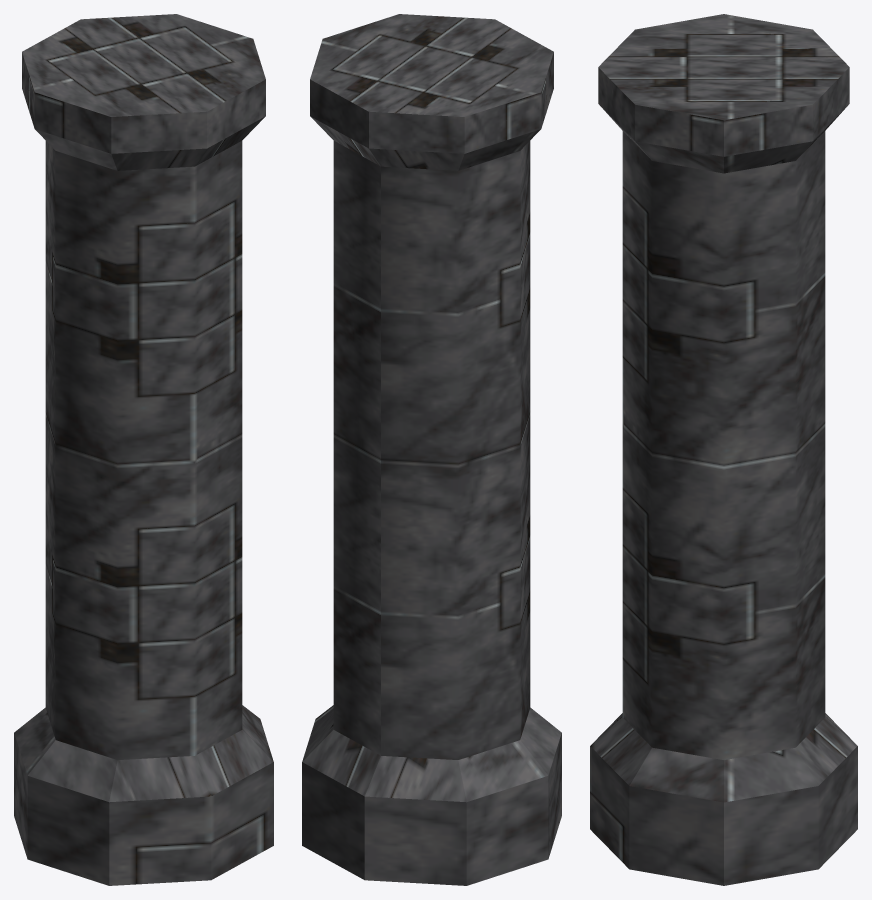
The picture shows the model from 3 angles, left to right: view 1: azimuth 30°, elevation 25°; view 2: azimuth 150°, elevation 25°; view 3: azimuth 270°, elevation 25°; orthographic projection.
Parts seen in each view (by area): view 1: a91; view 2: a91; view 3: a91.
Boxes of the visible parts, left/top/right/bottom form: a91: left=14, top=14, right=273, bottom=885; a91: left=302, top=14, right=561, bottom=885; a91: left=590, top=14, right=857, bottom=885.
Bounding box in the file's own units: 254 × 798 × 254.
